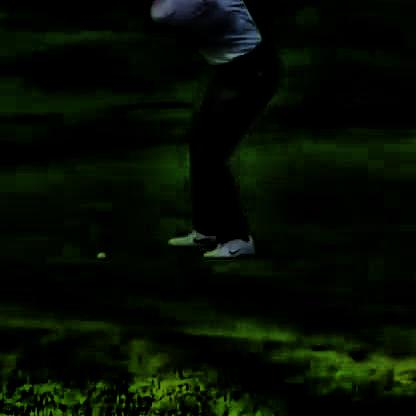golfball: (94, 250, 104, 257)
